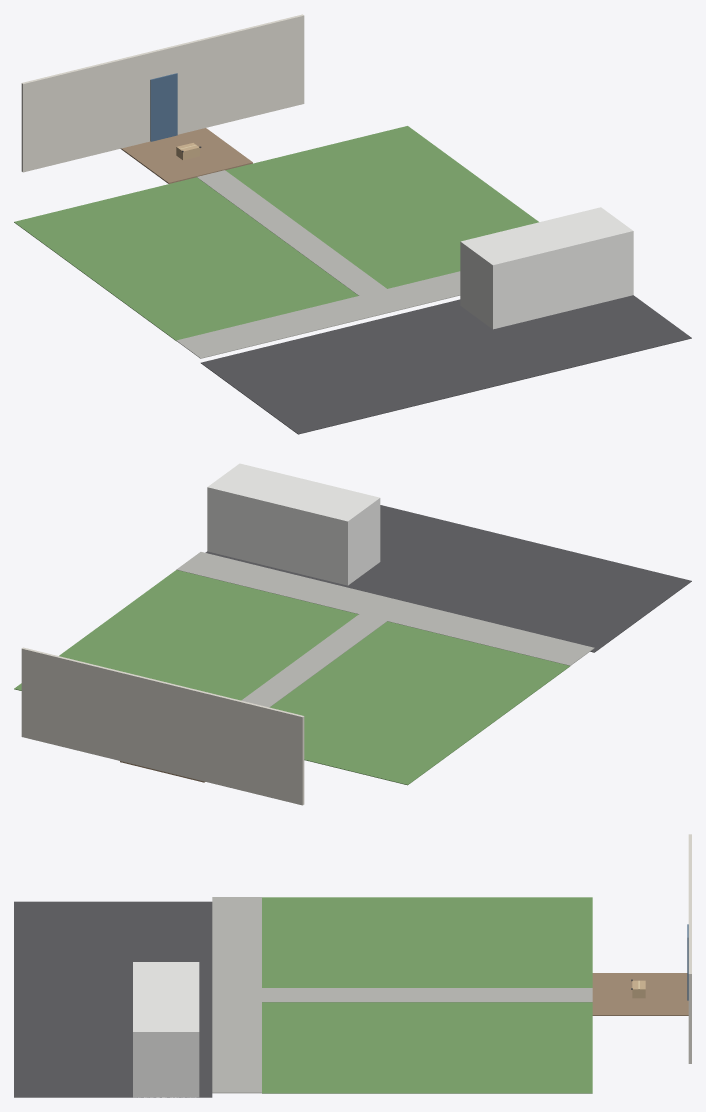
File: parcel-on-porch.glb
3 renders of one model, top to bottom at view 1: azimuth 30°, elevation 25°; view 2: azimuth 150°, elevation 25°; view 3: azimuth 270°, elevation 25°, orthographic.
Visible parts, largest first — view 1: _lawn, _street, _wall, _van, _pavement, _garden path, _porch, _door; view 2: _lawn, _wall, _street, _van, _pavement, _garden path; view 3: _lawn, _street, _pavement, _van, _garden path, _porch, _wall.
Boxes of the visible parts, left/top/right/bottom form: _lawn: left=14, top=126, right=538, bottom=341; _street: left=201, top=295, right=691, bottom=434; _wall: left=21, top=14, right=304, bottom=172; _van: left=460, top=207, right=633, bottom=329; _pavement: left=176, top=271, right=460, bottom=358; _garden path: left=197, top=170, right=386, bottom=295; _porch: left=120, top=128, right=252, bottom=183; _door: left=150, top=73, right=177, bottom=141; _lawn: left=14, top=570, right=570, bottom=785; _wall: left=21, top=647, right=304, bottom=805; _street: left=205, top=505, right=691, bottom=652; _van: left=207, top=463, right=380, bottom=585; _pavement: left=176, top=552, right=594, bottom=665; _garden path: left=241, top=614, right=386, bottom=707; _lawn: left=262, top=897, right=592, bottom=1093; _street: left=14, top=901, right=212, bottom=1097; _pavement: left=212, top=897, right=261, bottom=1093; _van: left=133, top=962, right=199, bottom=1097; _garden path: left=262, top=988, right=592, bottom=1002; _porch: left=592, top=973, right=688, bottom=1015; _wall: left=688, top=834, right=691, bottom=1063.
Bounding box in the file's own units: 14 × 3.2 × 20.5.
